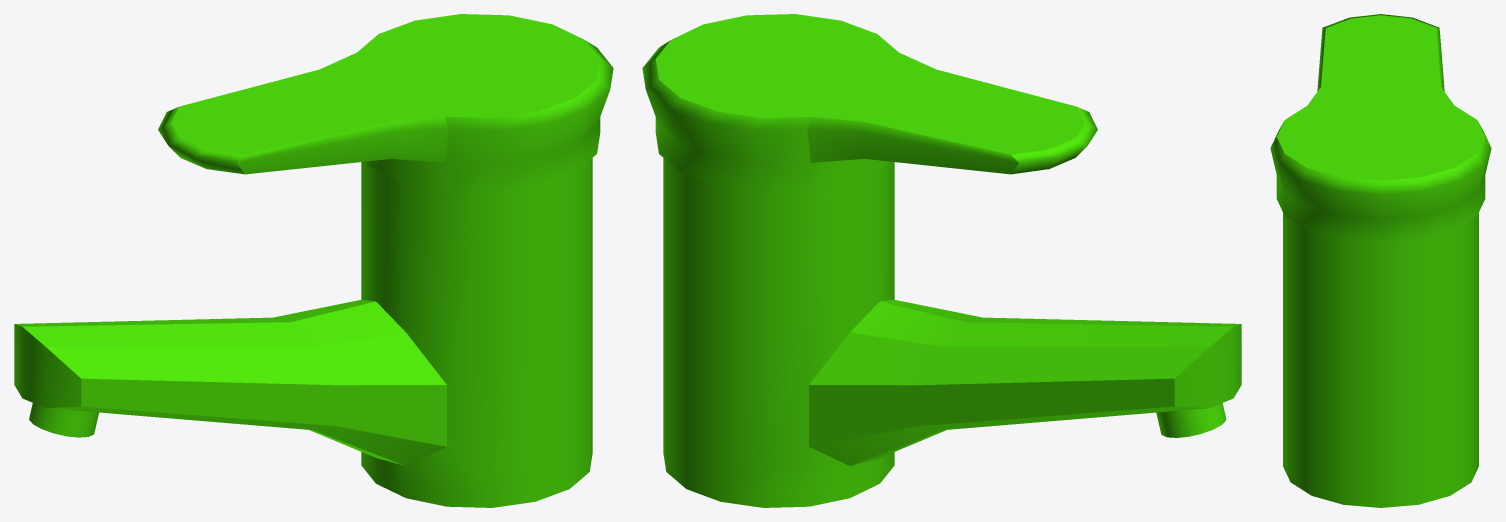
File: Sink_B_Tap.fbx
3 views of the same model, side by side, from view 1: azimuth 30°, elevation 25°; view 2: azimuth 150°, elevation 25°; view 3: azimuth 270°, elevation 25° (orthographic). The views are drawn at different scales.
Parts seen in each view (by area): view 1: Sink_B_Tap; view 2: Sink_B_Tap; view 3: Sink_B_Tap.
Boxes of the visible parts, x1,y1,x2,y2 form: Sink_B_Tap: (14,14,613,507); Sink_B_Tap: (642,14,1241,507); Sink_B_Tap: (1270,14,1491,507).
Size of the model in its own units: 97.92 by 64.02 by 38.92.
